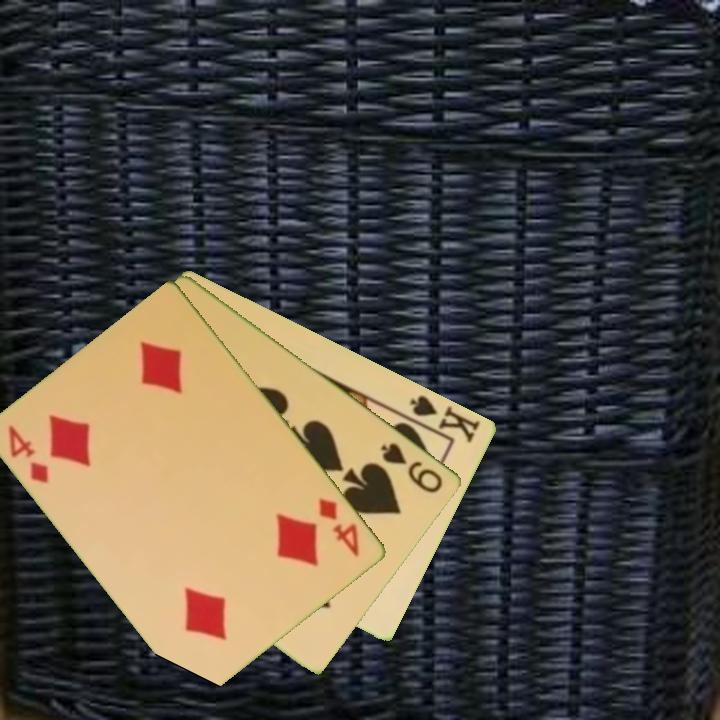4d: (315, 494, 363, 560), (5, 421, 53, 487)
9s: (377, 439, 447, 496)
Ks: (400, 391, 484, 446)
